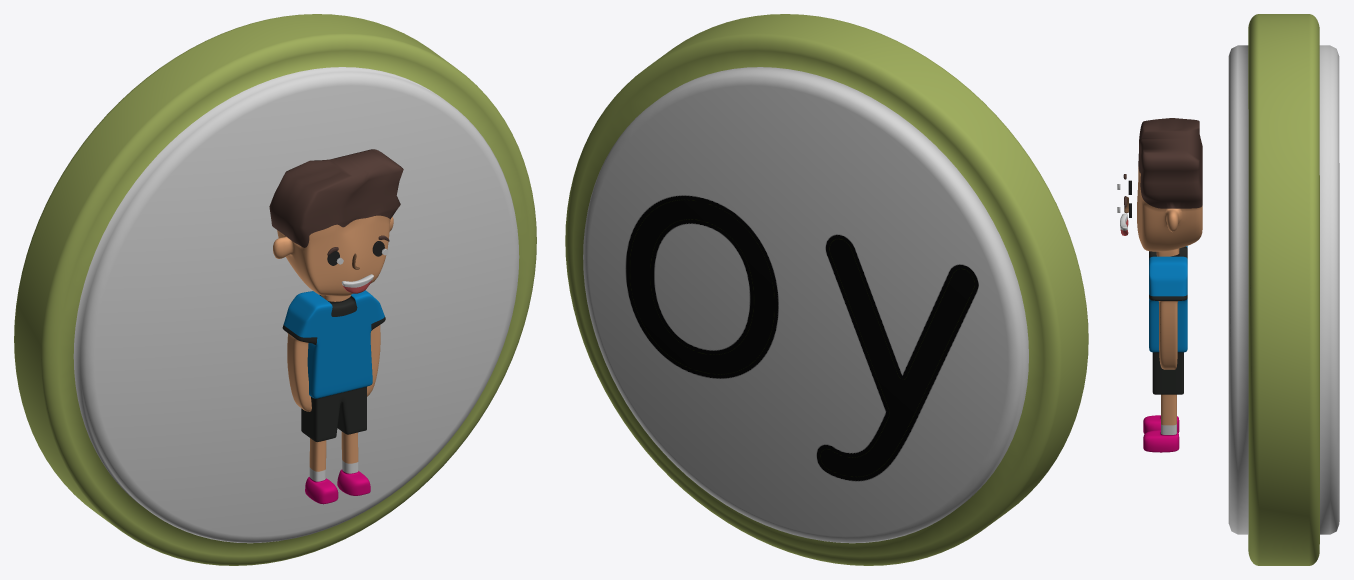
The model's file is boy2.gltf.
3 renders of one model, left to right at view 1: azimuth 30°, elevation 25°; view 2: azimuth 150°, elevation 25°; view 3: azimuth 270°, elevation 25°, orthographic. The views are drawn at different scales.
Parts seen in each view (by area): view 1: coin, face.003, Cube.000; view 2: coin; view 3: coin, face.003, Cube.000.
Part boxes in pixels (bbox=[...]): coin: bbox=[14, 14, 536, 565]; face.003: bbox=[269, 149, 403, 303]; Cube.000: bbox=[282, 290, 385, 504]; coin: bbox=[565, 14, 1088, 565]; coin: bbox=[1228, 14, 1339, 565]; face.003: bbox=[1117, 118, 1202, 256]; Cube.000: bbox=[1143, 246, 1187, 452].
Bounding box in the file's own units: 2.56 × 2.56 × 1.03.
Materials: 15 (1 with a texture image).
